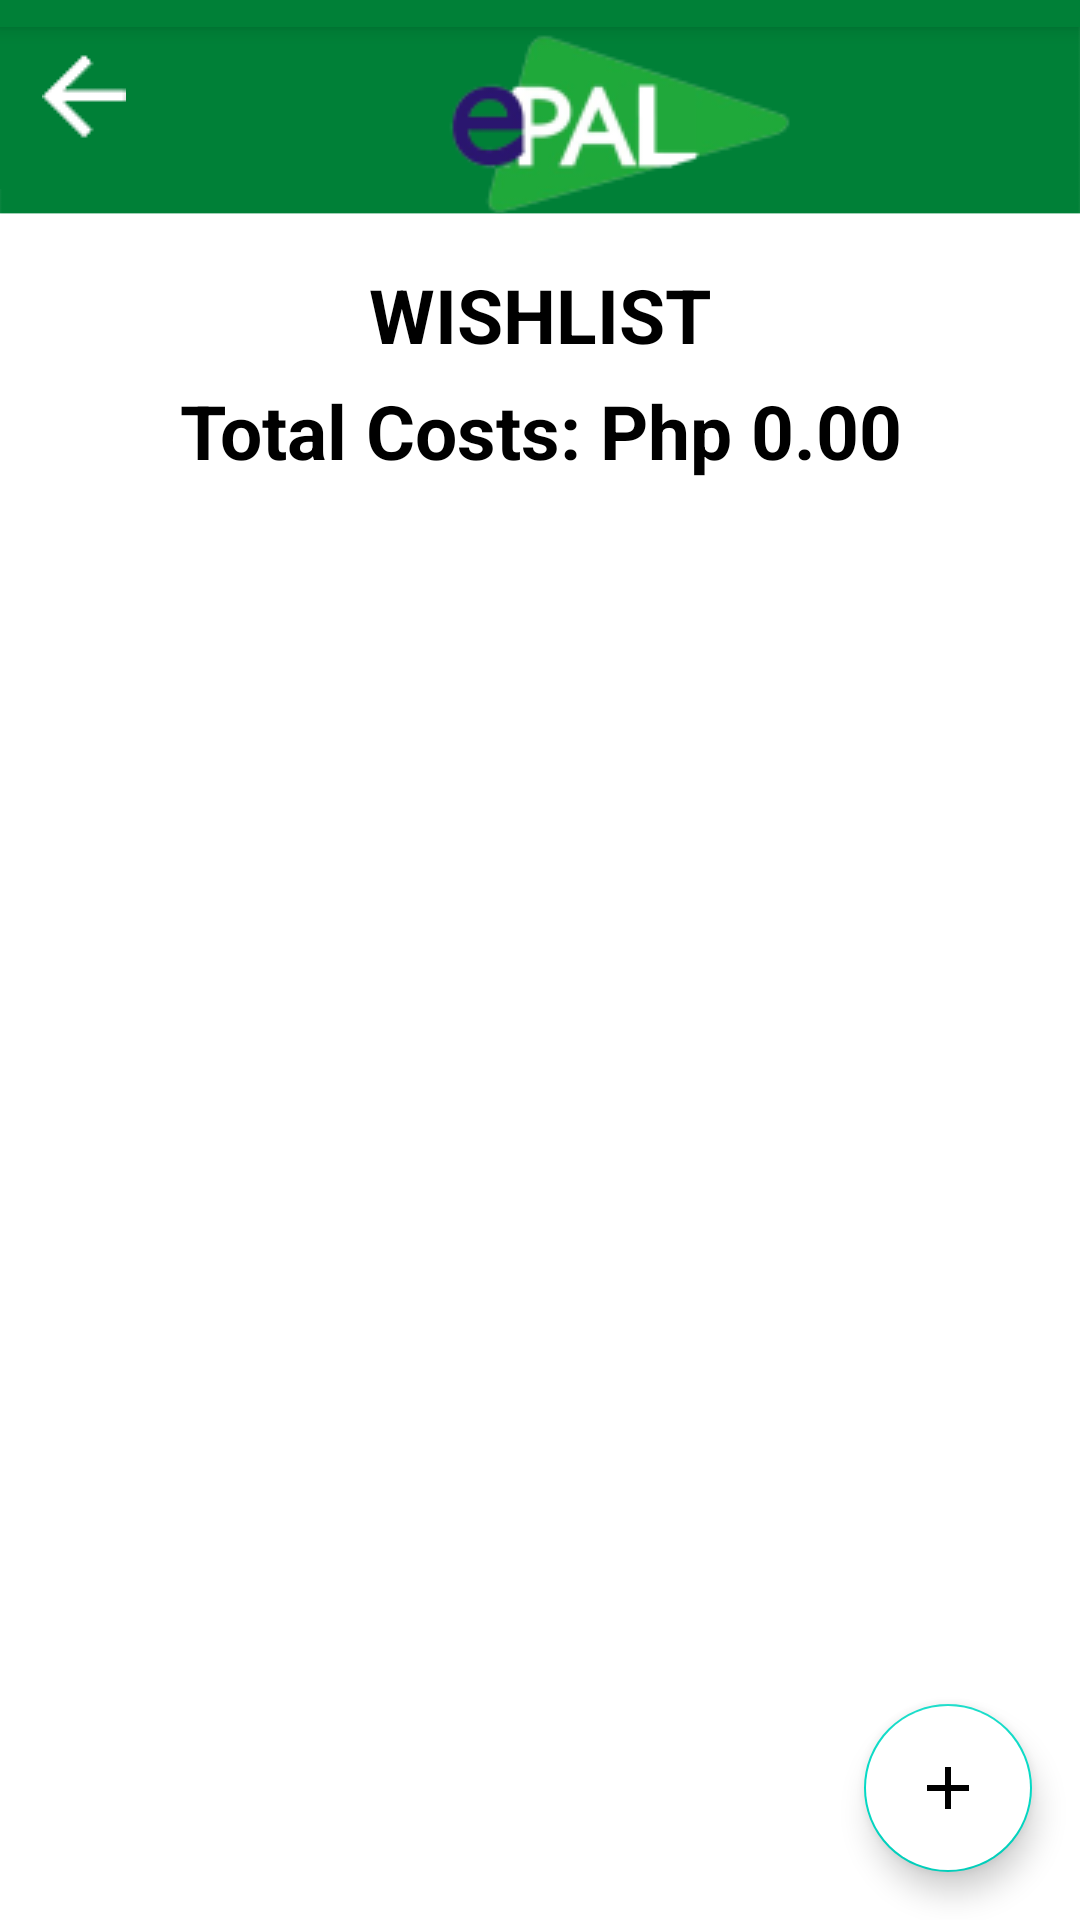

Icons on this 1080px x 1920px Android screen, each with its box as (x1, y1, x2, y2):
add: (864, 1704, 1032, 1872)
backwhitebtn: (42, 55, 126, 138)
